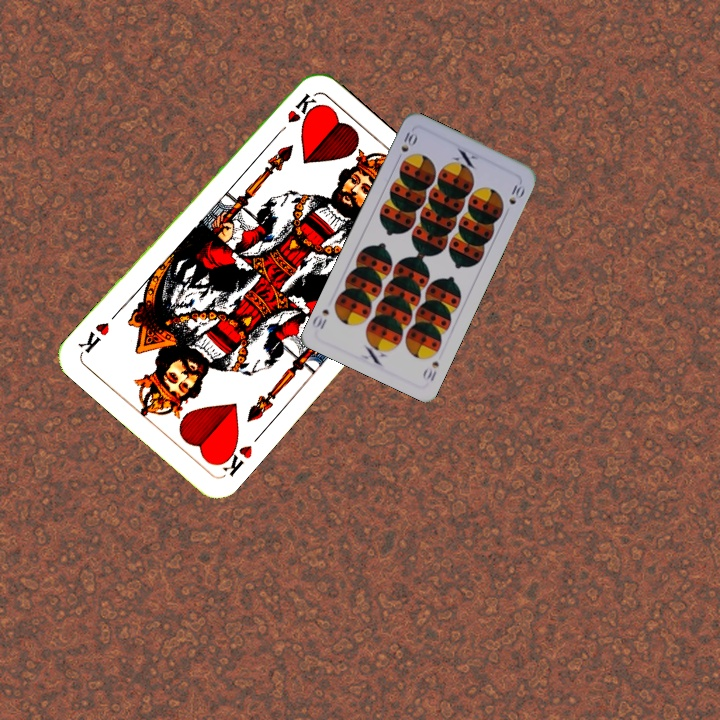HK: (271, 89, 319, 139), (212, 437, 255, 480)
S10: (397, 126, 420, 155), (419, 357, 442, 384)
